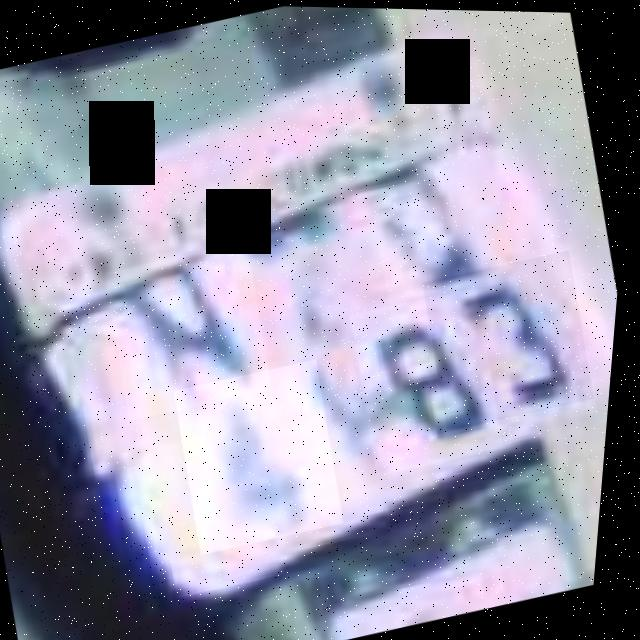3: (418, 245, 609, 431)
4: (169, 355, 362, 556)
8: (345, 282, 521, 476)
N: (99, 237, 288, 422)
Z: (220, 181, 409, 367)
